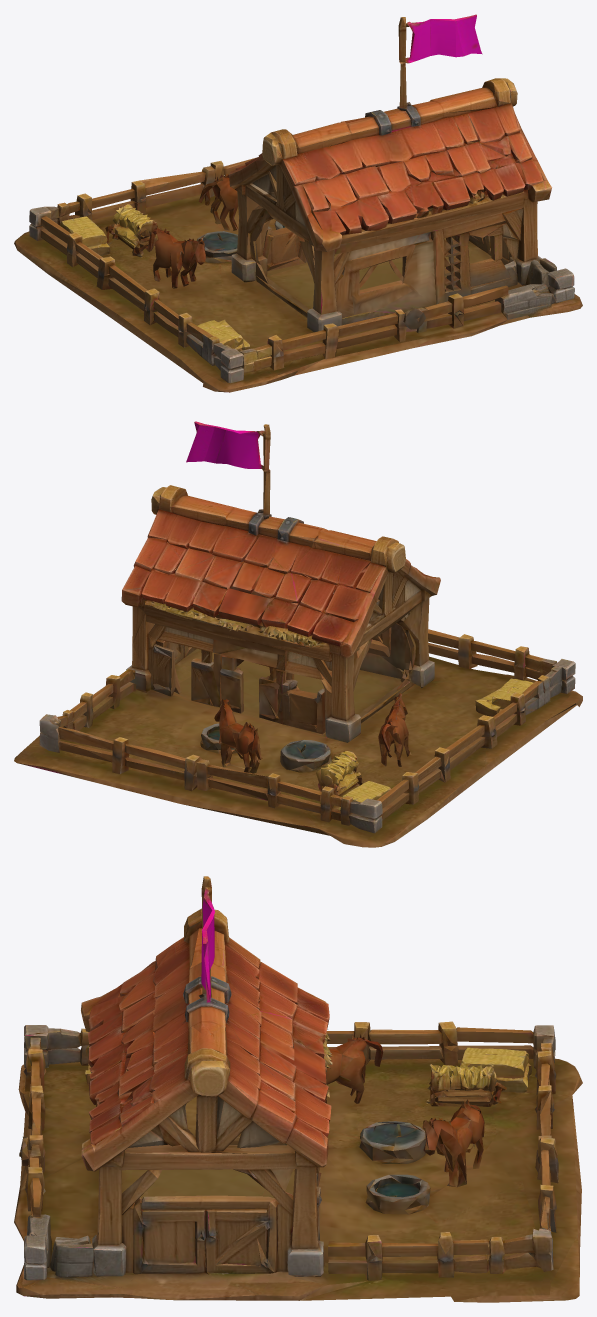
Rendered from stable.glb.
3 views of the same model, one above another, from view 1: azimuth 30°, elevation 25°; view 2: azimuth 150°, elevation 25°; view 3: azimuth 270°, elevation 25° (orthographic). The views are drawn at different scales.
Parts seen in each view (by area): view 1: Mesh_0; view 2: Mesh_0; view 3: Mesh_0.
Boxes of the visible parts, box(x1,y1,x2,y2) form: Mesh_0: box(14, 14, 582, 392); Mesh_0: box(14, 421, 582, 847); Mesh_0: box(14, 876, 582, 1302).
Size of the model in its own units: 1.91 by 1.27 by 1.89.
Materials: 1 (1 with a texture image).
